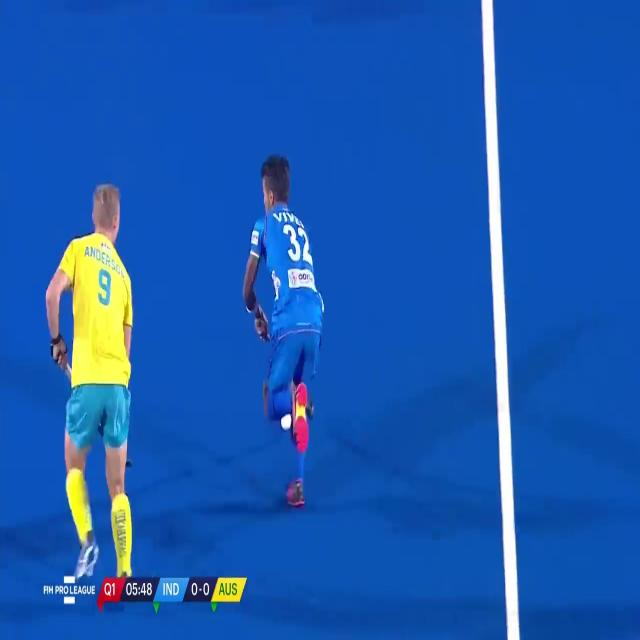ball: (275, 406, 298, 438)
